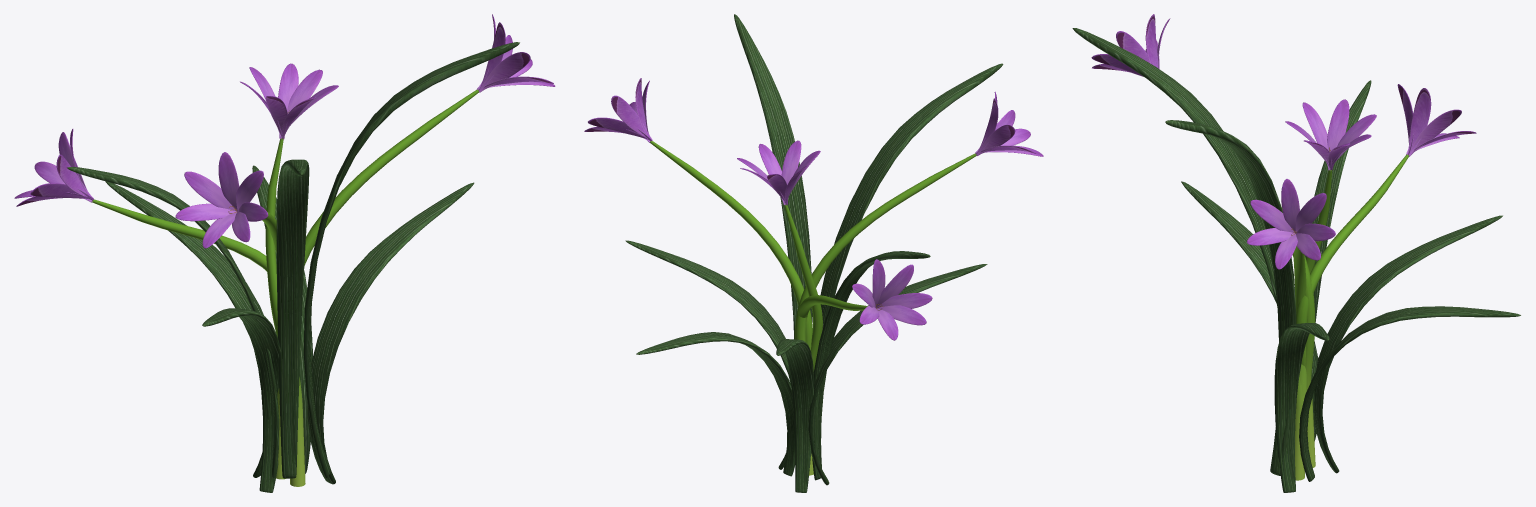
File: pinkOrchidTexture.fbx
3 renders of one model, left to right at view 1: azimuth 30°, elevation 25°; view 2: azimuth 150°, elevation 25°; view 3: azimuth 270°, elevation 25°, orthographic. The views are drawn at different scales.
Parts seen in each view (by area): view 1: polySurface34; view 2: polySurface34; view 3: polySurface34.
Part boxes in pixels (left/top/right/bottom): polySurface34: left=14, top=14, right=555, bottom=492; polySurface34: left=584, top=14, right=1043, bottom=492; polySurface34: left=1072, top=14, right=1520, bottom=492.
Bounding box in the file's own units: 4.67 × 4.44 × 4.23.
4 materials, 3 textured.
